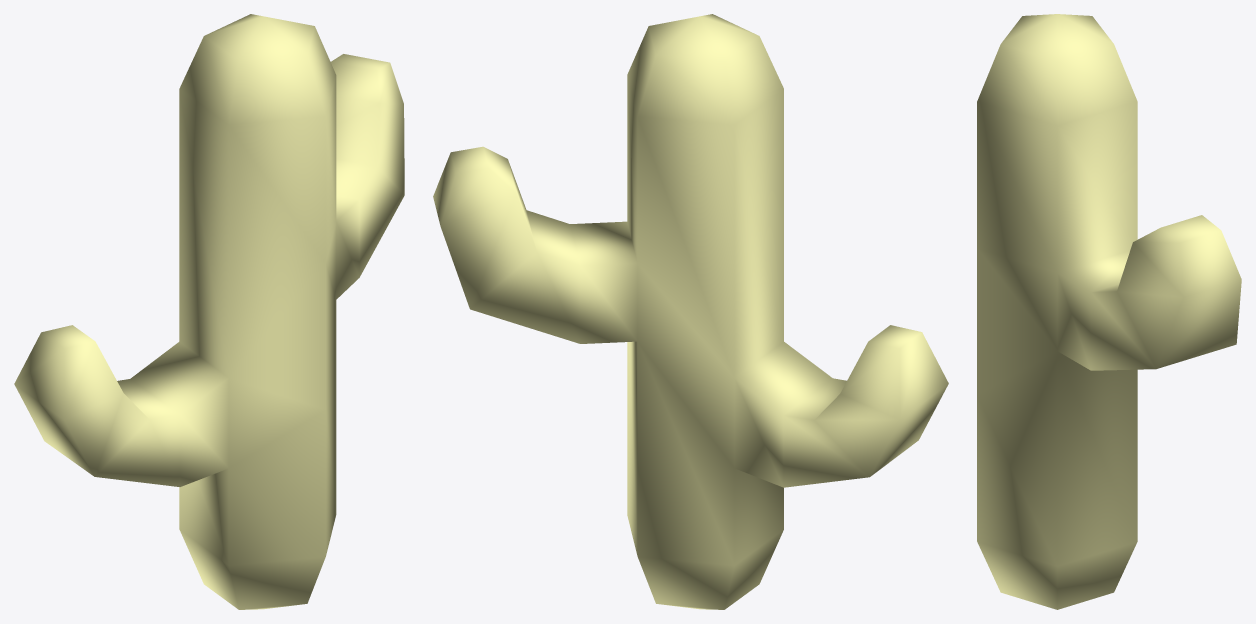
3 views of the same model, side by side, from view 1: azimuth 30°, elevation 25°; view 2: azimuth 150°, elevation 25°; view 3: azimuth 270°, elevation 25° (orthographic).
Visible parts, largest first — view 1: Object22; view 2: Object22; view 3: Object22.
Part boxes in pixels (x1,y1,x2,y2): Object22: (14,14,404,609); Object22: (433,14,948,609); Object22: (977,14,1241,609).
Bounding box in the file's own units: 119 × 157 × 63.6.
